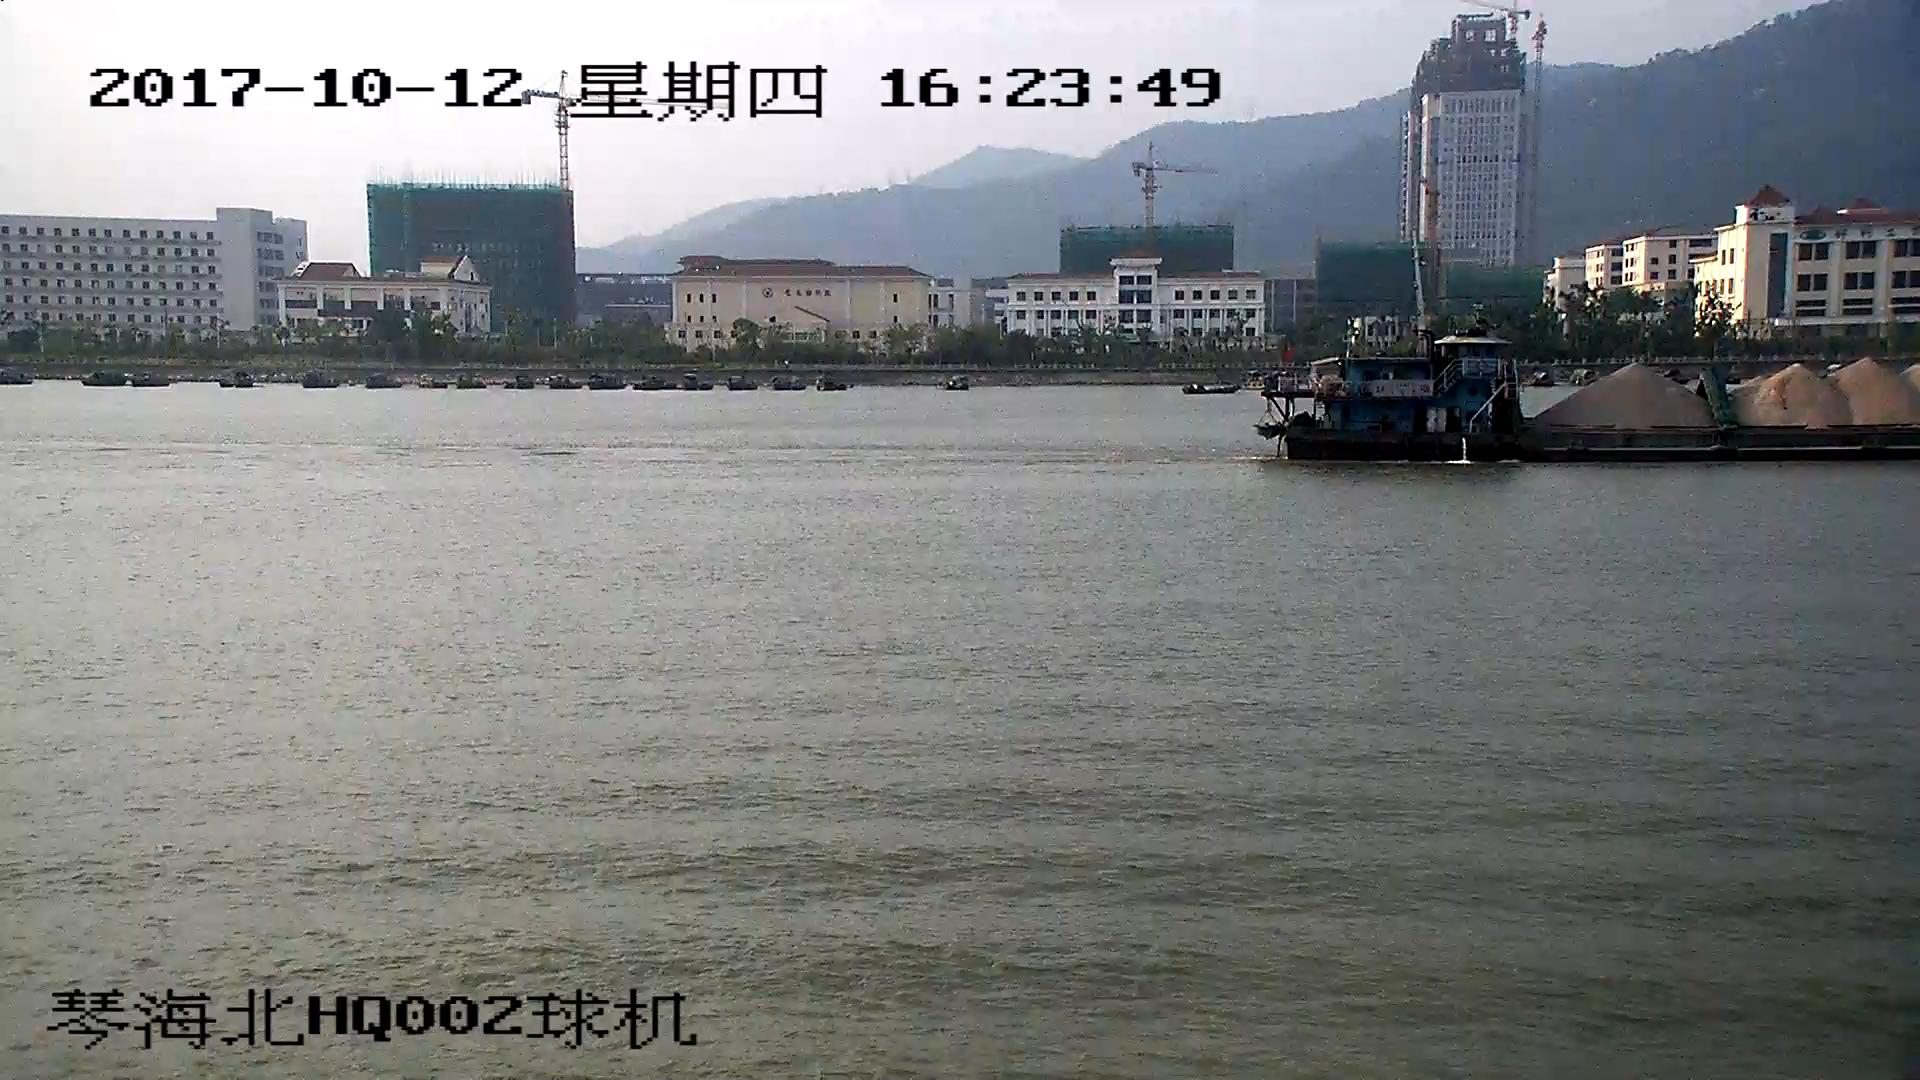ore carrier: (1262, 337, 1920, 462)
